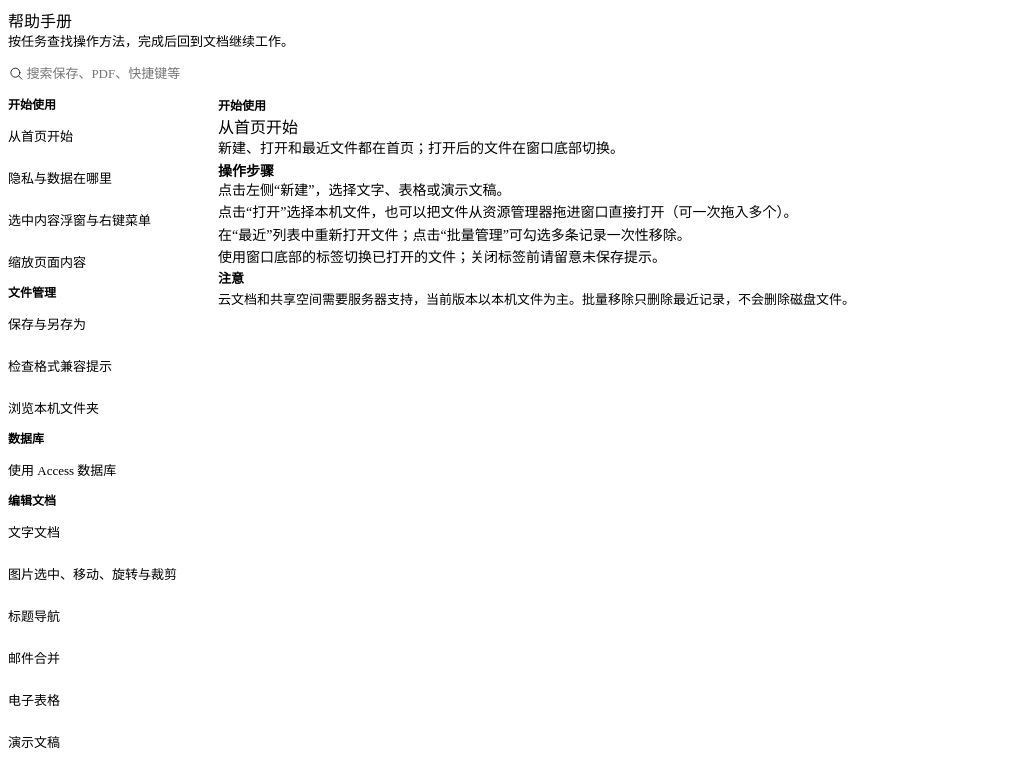
Test case: 帮助手册 › 按实际操作路径展示说明，并可切换主题
Expected: the heading "从首页开始" is shown, left=218, top=118, right=298, bottom=136
Click the button "保存与另存为" at point(108, 324), box left=8, top=304, right=208, bottom=344
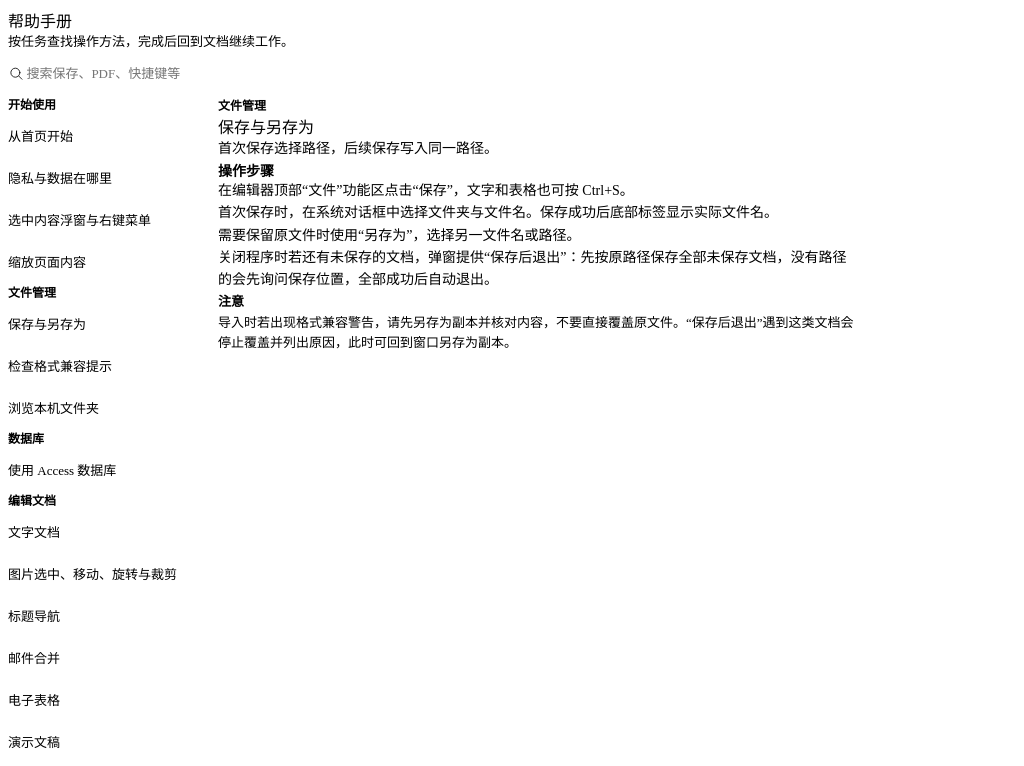
Now the list item "首次保存时，在系统对话框中选择文件夹与文件名。保存成功后底部标签显示实际文件名。" is shown, box left=218, top=202, right=858, bottom=225
Now the text "导入时若出现格式兼容警告" is shown, box left=218, top=315, right=854, bottom=350
